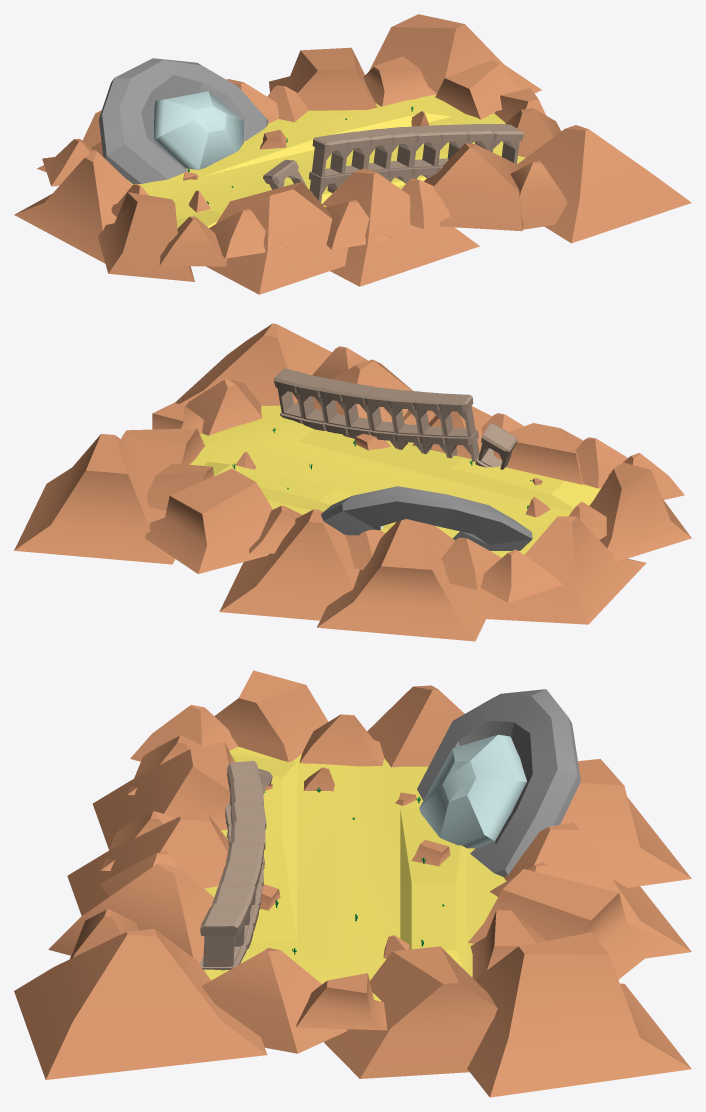
Rendered from Completo.fbx.
3 views of the same model, one above another, from view 1: azimuth 30°, elevation 25°; view 2: azimuth 150°, elevation 25°; view 3: azimuth 270°, elevation 25° (orthographic). The views are drawn at different scales.
Visible parts, largest first — view 1: Montañas, Nave, Piso, Coliseo, Piedras; view 2: Montañas, Piso, Coliseo, Nave, Piedras; view 3: Montañas, Piso, Nave, Coliseo, Piedras.
Boxes of the visible parts, bbox=[...] form: Montañas: bbox=[14, 14, 691, 294]; Nave: bbox=[99, 58, 268, 183]; Piso: bbox=[126, 93, 525, 228]; Coliseo: bbox=[263, 124, 523, 202]; Piedras: bbox=[183, 111, 429, 212]; Montañas: bbox=[14, 323, 691, 641]; Piso: bbox=[190, 405, 601, 557]; Coliseo: bbox=[273, 368, 517, 469]; Nave: bbox=[321, 486, 532, 550]; Piedras: bbox=[235, 433, 550, 517]; Montañas: bbox=[14, 670, 691, 1097]; Piso: bbox=[204, 746, 506, 1001]; Nave: bbox=[417, 689, 580, 876]; Coliseo: bbox=[199, 760, 272, 970]; Piedras: bbox=[260, 767, 450, 958].
Size of the model in its own units: 1157 by 270 by 938.
